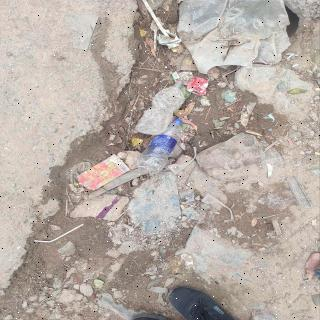Plastic-bottle: (133, 115, 187, 176), (135, 82, 192, 138)
